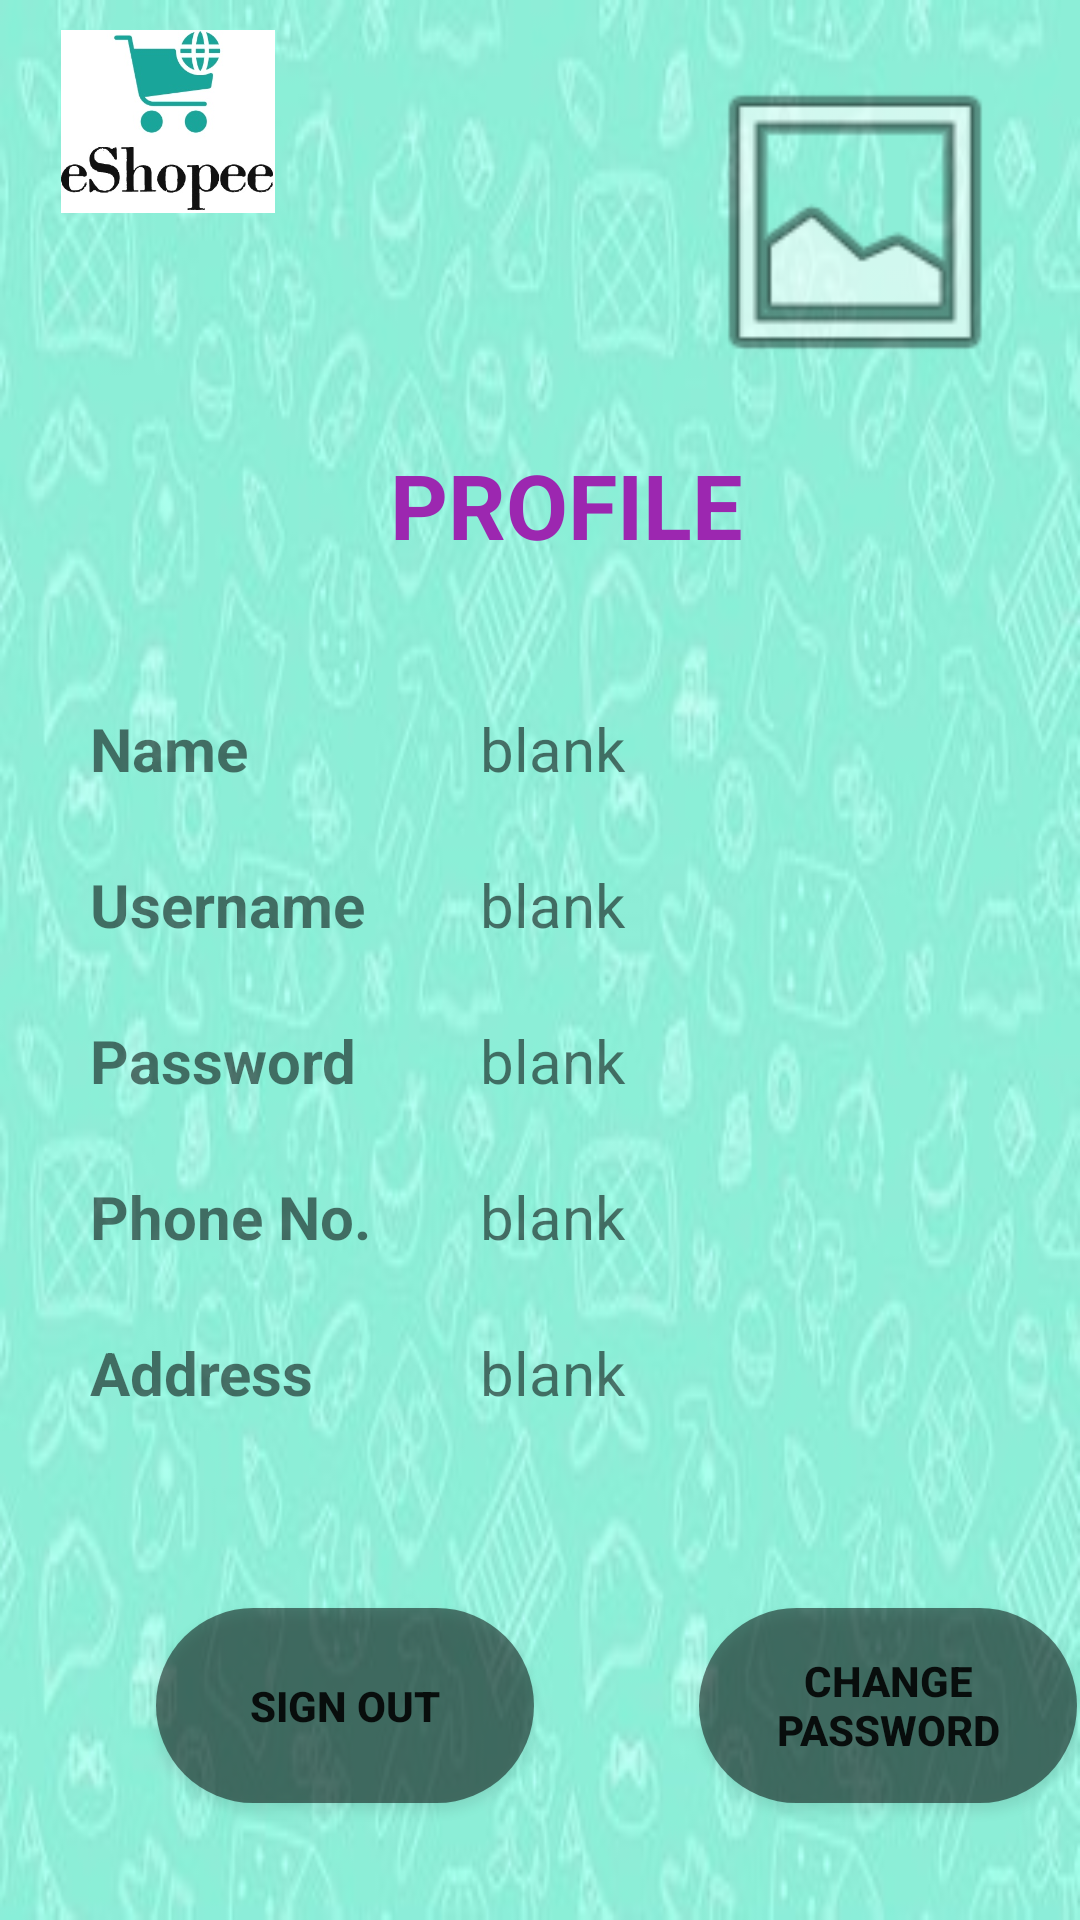

Named icons in this screenshot (1080w x 1920h) and their centers, (x,y):
gallery: (856,219)
